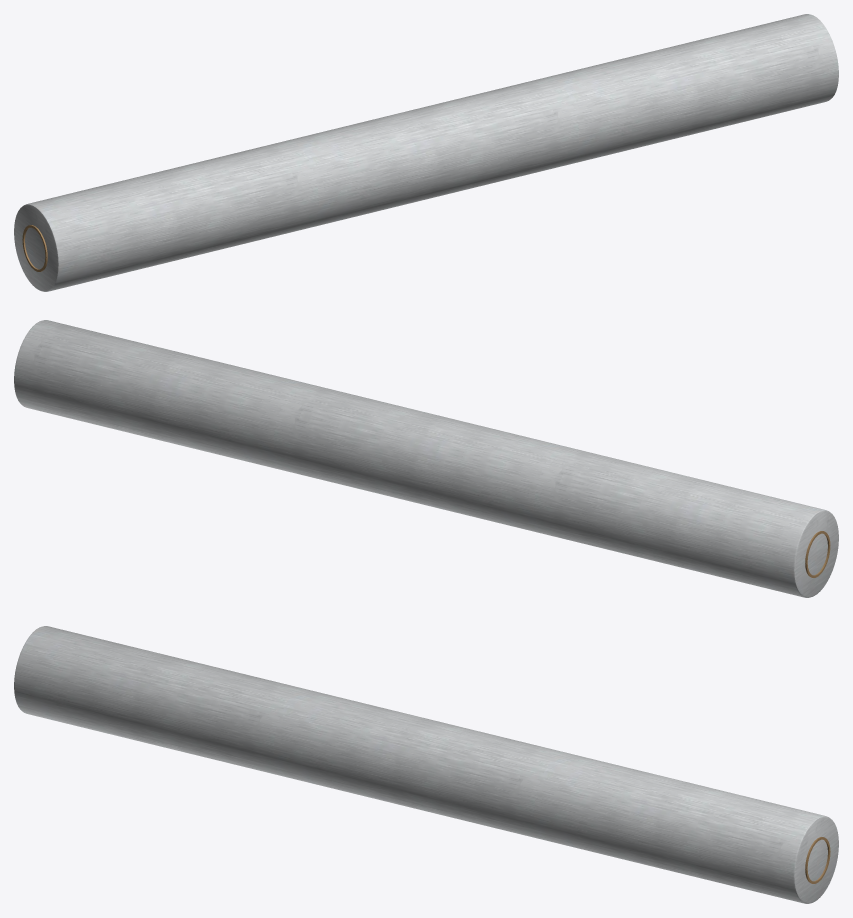
Rendered from COB-ACS-001.glb.
3 views of the same model, one above another, from view 1: azimuth 30°, elevation 25°; view 2: azimuth 150°, elevation 25°; view 3: azimuth 330°, elevation 25° (orthographic).
Visible parts, largest first — view 1: COB-ACS-001_rolo; view 2: COB-ACS-001_rolo; view 3: COB-ACS-001_rolo.
Part boxes in pixels (x1=…): COB-ACS-001_rolo: x1=14, y1=14, x2=838, y2=291; COB-ACS-001_rolo: x1=14, y1=320, x2=838, y2=597; COB-ACS-001_rolo: x1=14, y1=626, x2=838, y2=903.
Bounding box in the file's own units: 1.5 × 0.15 × 0.15.
Materials: 2 (2 with a texture image).
